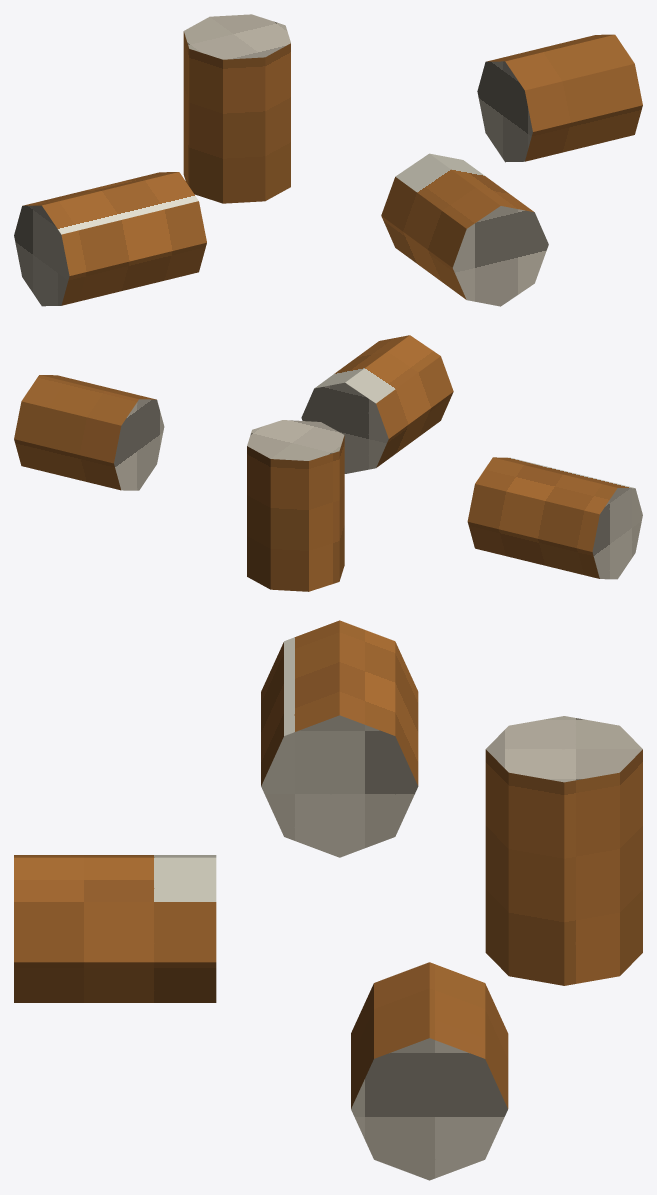
Rendered from pills.gltf.
3 views of the same model, one above another, from view 1: azimuth 30°, elevation 25°; view 2: azimuth 150°, elevation 25°; view 3: azimuth 270°, elevation 25° (orthographic). The views are drawn at different scales.
Parts seen in each view (by area): view 1: pills; view 2: pills; view 3: pills.
Boxes of the visible parts, <box> form: pills: <box>14,14,642,306</box>; pills: <box>14,335,642,591</box>; pills: <box>14,620,642,1180</box>.
Size of the model in its own units: 0.44 by 0.1 by 0.28.
2 materials, 2 textured.
